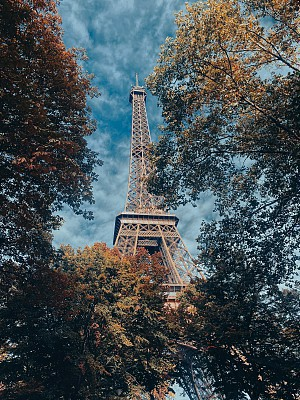Eiffel: (111, 72, 212, 310)
